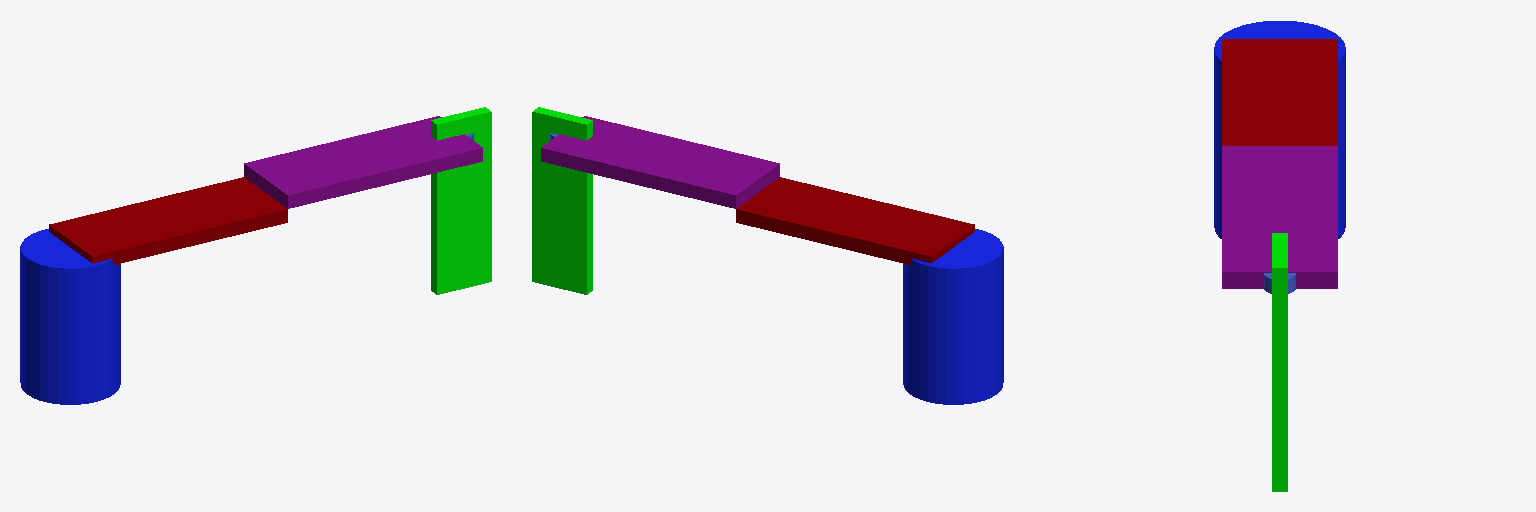
URDF robot description (robot):
<robot name="robot">
  <link name="base_footprint"></link>
  <joint name="base_joint" type="fixed">
    <parent link="base_footprint" />
    <child link="base_link" />
    <origin xyz="0 0 0.06" rpy="0 0 0" />
  </joint>
  <link name="base_link">
    <visual>
      <origin xyz="0 0 0" rpy="0 0 0" />
      <geometry>
        <cylinder radius="0.04" length="0.12" />
      </geometry>
      <material name="base_link-material">
        <color rgba="0.09758734713304495 0.17788841597328695 0.9646862478936612 1" />
      </material>
    </visual>
    <collision>
      <origin xyz="0 0 0" rpy="0 0 0" />
      <geometry>
        <cylinder radius="0.04" length="0.12" />
      </geometry>
    </collision>
    <inertial>
      <origin xyz="0 0 0" rpy="0 0 0" />
      <mass value="1" />
      <inertia ixx="0.3333333333333333" ixy="0" ixz="0" iyy="0.5" iyz="0" izz="0.3333333333333333" />
    </inertial>
  </link>
  <joint name="base_link_to_shoulder" type="revolute">
    <parent link="base_link" />
    <child link="shoulder" />
    <origin xyz="0 0 0.06" rpy="0 0 0" />
    <axis xyz="0 0 1"/>
    <limit effort="1000.0" lower="-1.91" upper="1.91" velocity="0.5"/>  </joint>
  <link name="shoulder">
    <visual>
      <origin xyz="0.09 0 0" rpy="0 0 0" />
      <geometry>
        <box size="0.18 0.07 0.012" />
      </geometry>
      <material name="shoulder-material">
        <color rgba="0.6038273388475408 0.0027317428517647058 0.026241221889696346 1" />
      </material>
    </visual>
    <collision>
      <origin xyz="0.09 0 0" rpy="0 0 0" />
      <geometry>
        <box size="0.18 0.07 0.012" />
      </geometry>
    </collision>
    <inertial>
      <origin xyz="0.09 0 0" rpy="0 0 0" />
      <mass value="1" />
      <inertia ixx="0.16666666666666666" ixy="0" ixz="0" iyy="0.16666666666666666" iyz="0" izz="0.16666666666666666" />
    </inertial>
  </link>
  <joint name="shoulder_to_elbow" type="revolute">
    <parent link="shoulder" />
    <child link="elbow" />
    <origin xyz="0.18 0 0.012" rpy="0 0 0" />
    <axis xyz="0 0 1"/>
    <limit effort="1000.0" lower="-2.79" upper="2.79" velocity="0.5"/>  </joint>
  <link name="elbow">
    <visual>
      <origin xyz="0.09 0 0" rpy="0 0 0" />
      <geometry>
        <box size="0.18 0.07 0.012" />
      </geometry>
      <material name="elbow-material">
        <color rgba="0.5711248294565854 0.08650046202808521 0.6038273388475408 1" />
      </material>
    </visual>
    <collision>
      <origin xyz="0.09 0 0" rpy="0 0 0" />
      <geometry>
        <box size="0.18 0.07 0.012" />
      </geometry>
    </collision>
    <inertial>
      <origin xyz="0.09 0 0" rpy="0 0 0" />
      <mass value="1" />
      <inertia ixx="0.16666666666666666" ixy="0" ixz="0" iyy="0.16666666666666666" iyz="0" izz="0.16666666666666666" />
    </inertial>
  </link>
  <joint name="elbow_to_endZ" type="prismatic">
    <parent link="elbow" />
    <child link="endZ" />
    <origin xyz="0 0 0" rpy="0 0 0" />
    <axis xyz="0 0 1"/>
    <limit effort="1000.0" lower="-0.06" upper="0.06" velocity="0.5"/>  </joint>
  <link name="endZ">
    <visual>
      <origin xyz="0.18 0 0" rpy="0 0 0" />
      <geometry>
        <cylinder radius="0.01" length="0.01" />
      </geometry>
      <material name="endZ-material">
        <color rgba="0.2917706498067337 0.407240211891531 0.8468732315065057 1" />
      </material>
    </visual>
    <collision>
      <origin xyz="0 0 0" rpy="0 0 0" />
      <geometry>
        <cylinder radius="0.01" length="0.01" />
      </geometry>
    </collision>
    <inertial>
      <origin xyz="0 0 0" rpy="0 0 0" />
      <mass value="1" />
      <inertia ixx="0.3333333333333333" ixy="0" ixz="0" iyy="0.5" iyz="0" izz="0.3333333333333333" />
    </inertial>
  </link>
  <joint name="endZ_to_endR" type="continuous">
    <parent link="endZ" />
    <child link="endR" />
    <origin xyz="0.18 0 0" rpy="0 0 0" />
    <axis xyz="0 0 1"/>
  </joint>
  <link name="endR">
    <visual>
      <origin xyz="0 0 -0.055" rpy="0 0 0" />
      <geometry>
        <box size="0.05 0.01 0.15" />
      </geometry>
      <material name="endR-material">
        <color rgba="0.019382360952473074 0.9646862478936612 0.04373502925049377 1" />
      </material>
    </visual>
    <collision>
      <origin xyz="0 0 0" rpy="0 0 0" />
      <geometry>
        <box size="1 1 1" />
      </geometry>
    </collision>
    <inertial>
      <origin xyz="0 0 0" rpy="0 0 0" />
      <mass value="1" />
      <inertia ixx="0.16666666666666666" ixy="0" ixz="0" iyy="0.16666666666666666" iyz="0" izz="0.16666666666666666" />
    </inertial>
  </link>
</robot>

--- What the picture shows (computed from the rendered views, not written in the file) ---
The picture shows the robot from 3 angles, left to right: view 1: azimuth 30°, elevation 25°; view 2: azimuth 150°, elevation 25°; view 3: azimuth 270°, elevation 25°; orthographic projection.
Robot: robot — 6 links, 5 joints (2 revolute, 1 continuous, 1 prismatic, 1 fixed); root link base_footprint; default pose: all joints at 0.
Visible links, largest first — view 1: base_link, shoulder, elbow, endR; view 2: base_link, shoulder, elbow, endR; view 3: elbow, shoulder, base_link, endR.
Boxes of the visible links, x1,y1,x2,y2 form: base_link: (20, 229, 120, 404); shoulder: (49, 177, 287, 264); elbow: (244, 116, 482, 208); endR: (431, 107, 491, 294); base_link: (903, 229, 1003, 404); shoulder: (736, 177, 974, 264); elbow: (541, 116, 779, 208); endR: (532, 107, 592, 294); elbow: (1222, 146, 1337, 288); shoulder: (1222, 39, 1337, 145); base_link: (1214, 21, 1345, 238); endR: (1272, 233, 1287, 491).
Bounding box of the posed robot: 0.425 × 0.08 × 0.152 m (x, y, z).
Geometry: primitives only (box / cylinder / sphere), no mesh files.